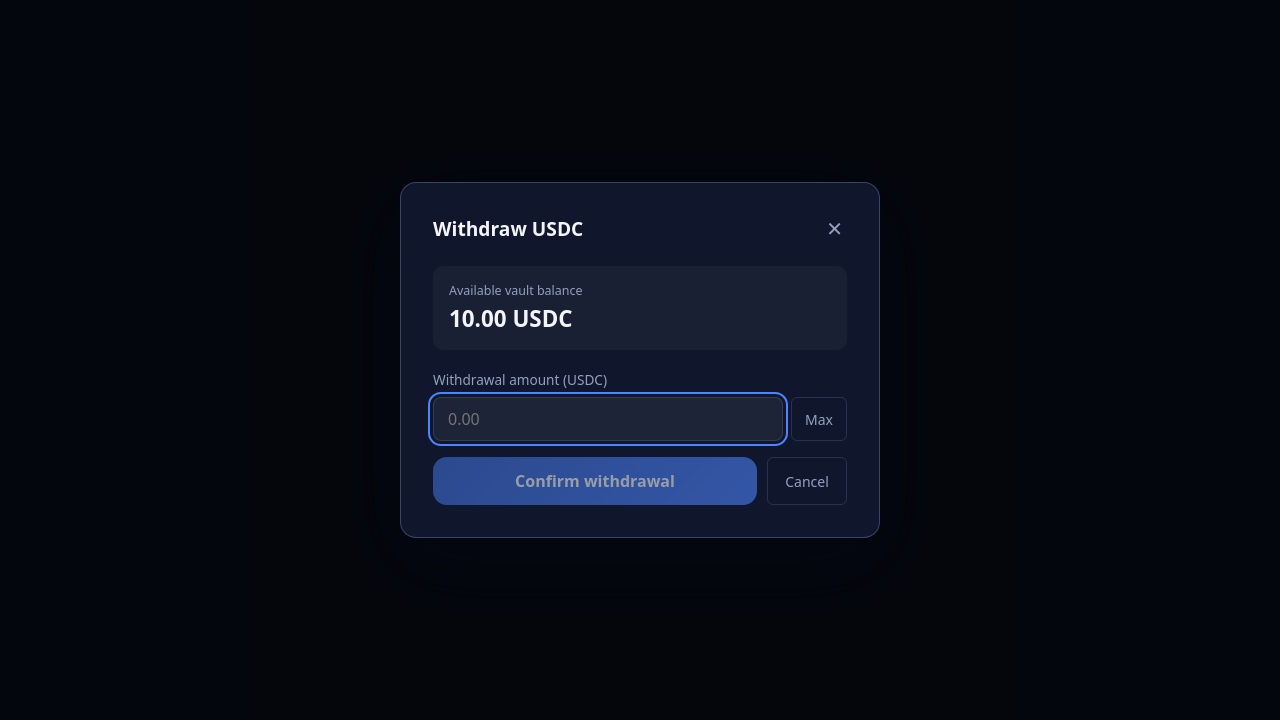
it: WithdrawModal – edge cases › amount equal to full balance is valid and enabled
Type "10" into the field labelled "Withdrawal amount (USDC)". click: (608, 419)
box: [433, 397, 783, 441]
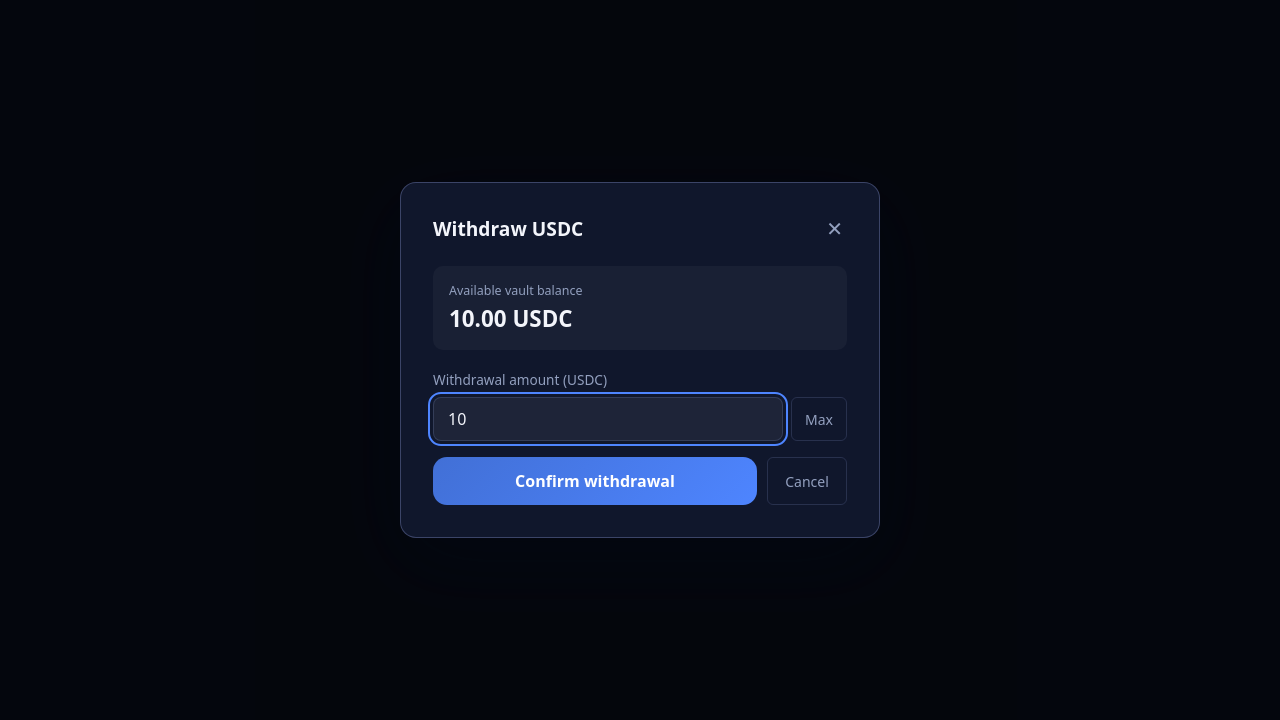
Expected: the button "Confirm withdrawal" is enabled, [433, 457, 757, 505]
